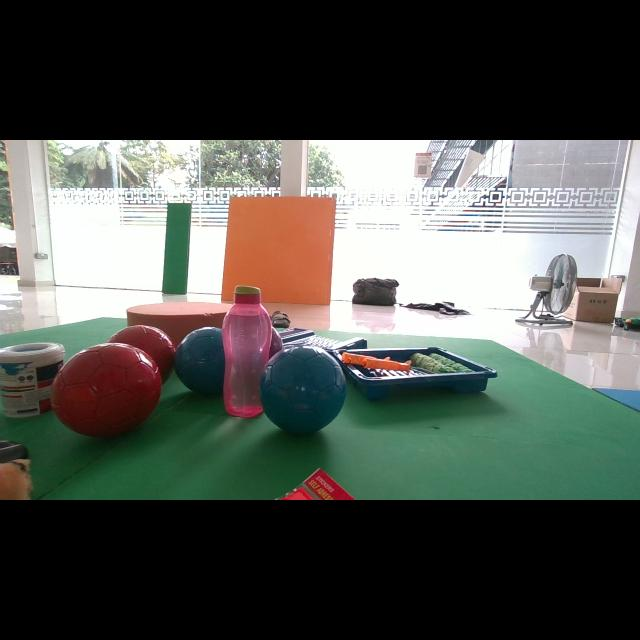B: (260, 345, 346, 434), (174, 326, 225, 394)
R: (51, 342, 162, 438), (108, 325, 176, 382)
